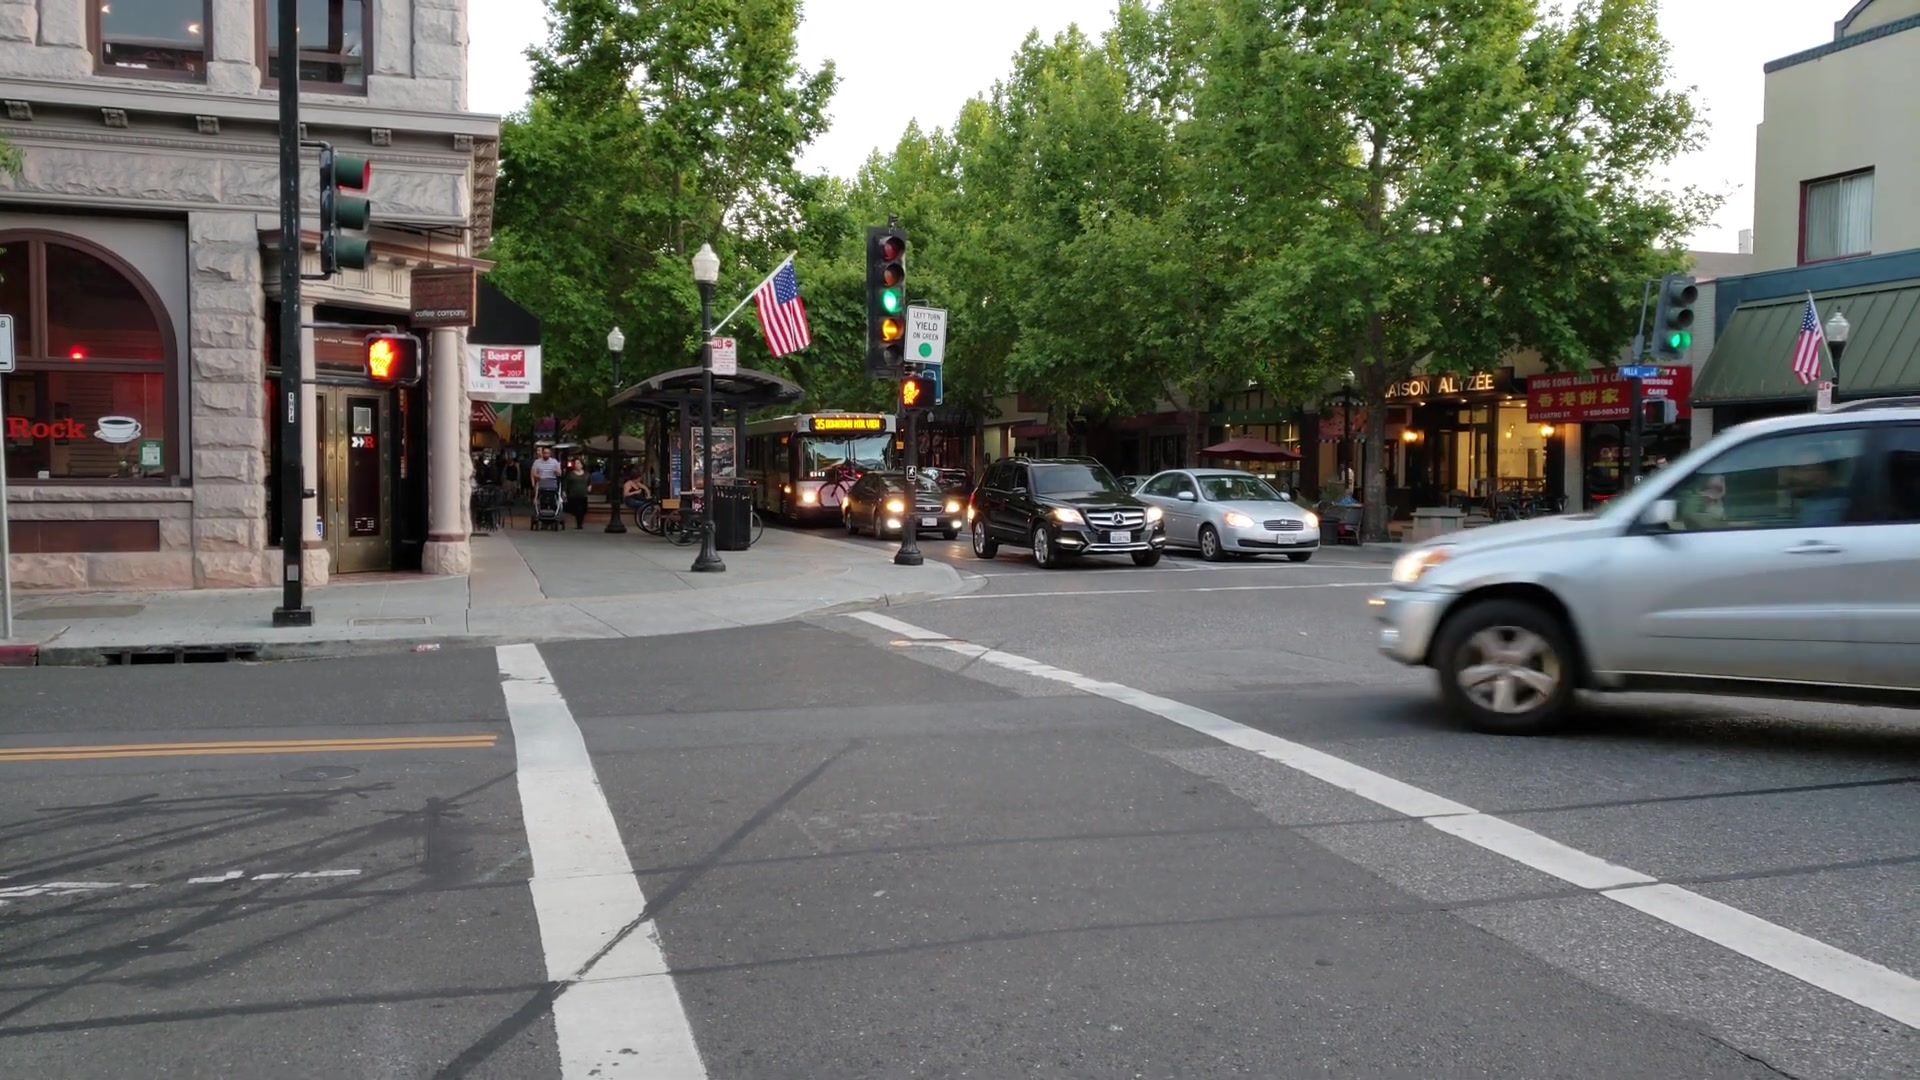vehicle: (969, 455, 1166, 567), (742, 417, 895, 529), (1139, 469, 1323, 562), (843, 476, 963, 541)
